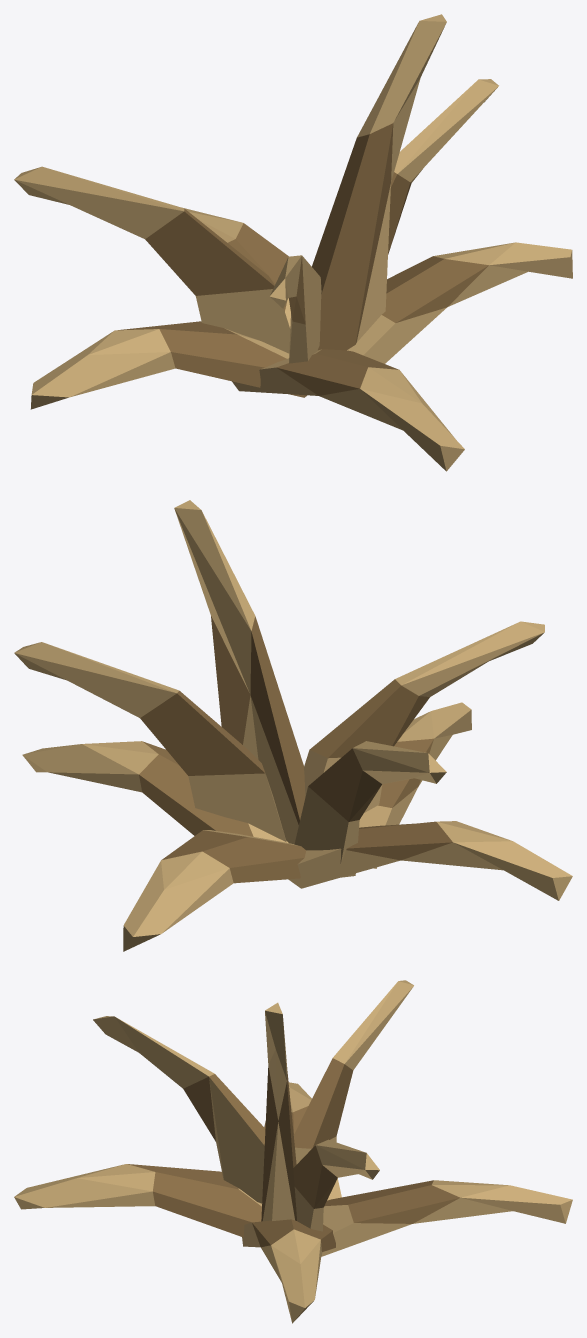
File: EA_M_Env_Dry_Grass_01a_PRE.glb
3 renders of one model, top to bottom at view 1: azimuth 30°, elevation 25°; view 2: azimuth 150°, elevation 25°; view 3: azimuth 270°, elevation 25°, orthographic. The views are drawn at different scales.
Parts seen in each view (by area): view 1: EA_M_Env_Dry_Grass_01a; view 2: EA_M_Env_Dry_Grass_01a; view 3: EA_M_Env_Dry_Grass_01a.
Boxes of the visible parts, x1,y1,x2,y2 form: EA_M_Env_Dry_Grass_01a: (14, 14, 572, 471); EA_M_Env_Dry_Grass_01a: (14, 500, 572, 951); EA_M_Env_Dry_Grass_01a: (14, 980, 572, 1323).
Size of the model in its own units: 0.5671 by 0.3216 by 0.5899.
1 material, 1 textured.
